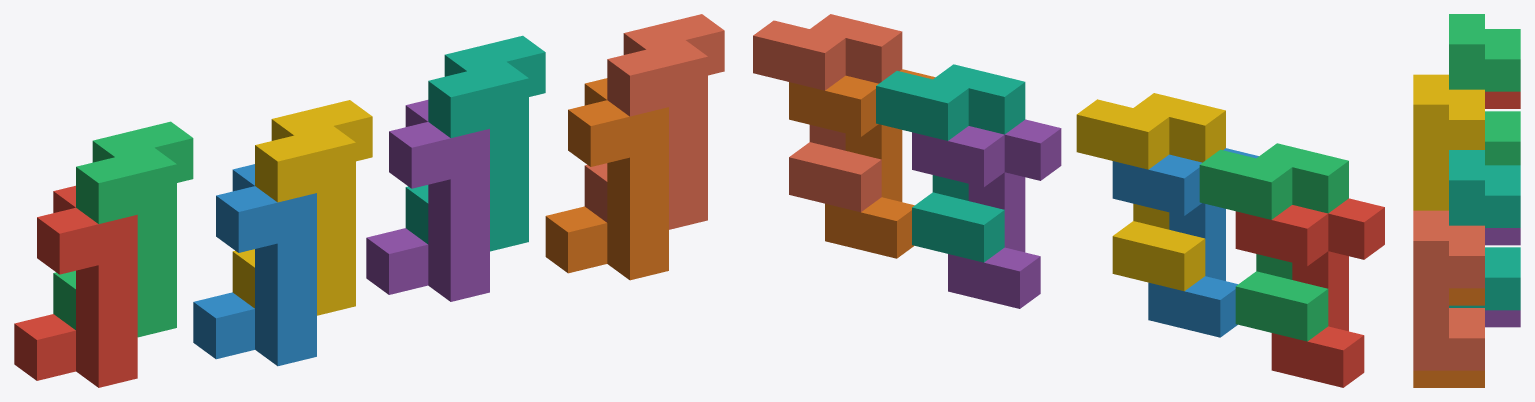
Rendered from tiling.obj.
3 views of the same model, side by side, from view 1: azimuth 30°, elevation 25°; view 2: azimuth 150°, elevation 25°; view 3: azimuth 270°, elevation 25° (orthographic). The views are drawn at different scales.
Parts seen in each view (by area): view 1: copy_1_domain_5, copy_1_domain_6, copy_1_domain_1, copy_1_domain_2, copy_1_domain_3, copy_1_domain_8, copy_1_domain_7, copy_1_domain_4; view 2: copy_1_domain_3, copy_1_domain_7, copy_1_domain_4, copy_1_domain_8, copy_1_domain_5, copy_1_domain_1, copy_1_domain_2, copy_1_domain_6; view 3: copy_1_domain_8, copy_1_domain_7, copy_1_domain_4, copy_1_domain_3, copy_1_domain_6, copy_1_domain_5, copy_1_domain_1.
Part boxes in pixels (left/top/right/bottom): copy_1_domain_5: left=366, top=100, right=489, bottom=301; copy_1_domain_6: left=545, top=78, right=668, bottom=280; copy_1_domain_1: left=14, top=185, right=137, bottom=387; copy_1_domain_2: left=193, top=164, right=316, bottom=366; copy_1_domain_3: left=53, top=121, right=193, bottom=337; copy_1_domain_8: left=584, top=14, right=724, bottom=229; copy_1_domain_7: left=405, top=35, right=545, bottom=251; copy_1_domain_4: left=232, top=100, right=372, bottom=315; copy_1_domain_3: left=1199, top=143, right=1348, bottom=341; copy_1_domain_7: left=876, top=64, right=1025, bottom=262; copy_1_domain_4: left=1076, top=93, right=1225, bottom=291; copy_1_domain_8: left=753, top=14, right=902, bottom=212; copy_1_domain_5: left=912, top=119, right=1061, bottom=308; copy_1_domain_1: left=1235, top=198, right=1384, bottom=387; copy_1_domain_2: left=1112, top=148, right=1258, bottom=337; copy_1_domain_6: left=789, top=69, right=935, bottom=258; copy_1_domain_8: left=1413, top=210, right=1484, bottom=370; copy_1_domain_7: left=1449, top=150, right=1520, bottom=310; copy_1_domain_4: left=1413, top=74, right=1484, bottom=210; copy_1_domain_3: left=1449, top=14, right=1520, bottom=165; copy_1_domain_6: left=1413, top=288, right=1484, bottom=387; copy_1_domain_5: left=1485, top=228, right=1520, bottom=327; copy_1_domain_1: left=1485, top=91, right=1520, bottom=108.
Bounding box in the file's own units: 17 × 5 × 3.
